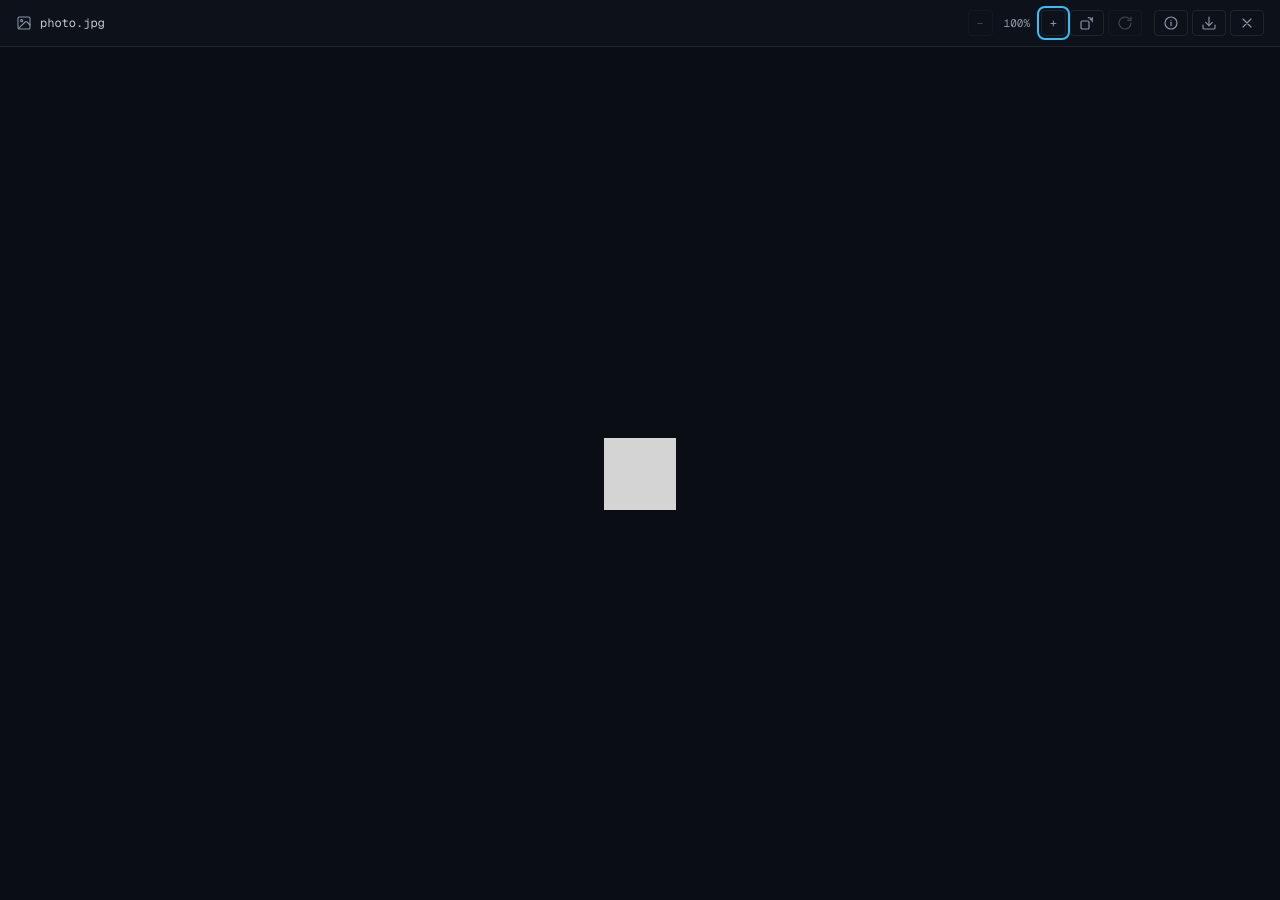
Test: FilePreview file actions › toggles a file-info panel with the metadata
This screenshot has width=1280, height=900.
Expected: the text "Perms" is not shown
Click the button named "File info" at (1171, 23), box [1154,10,1188,36]
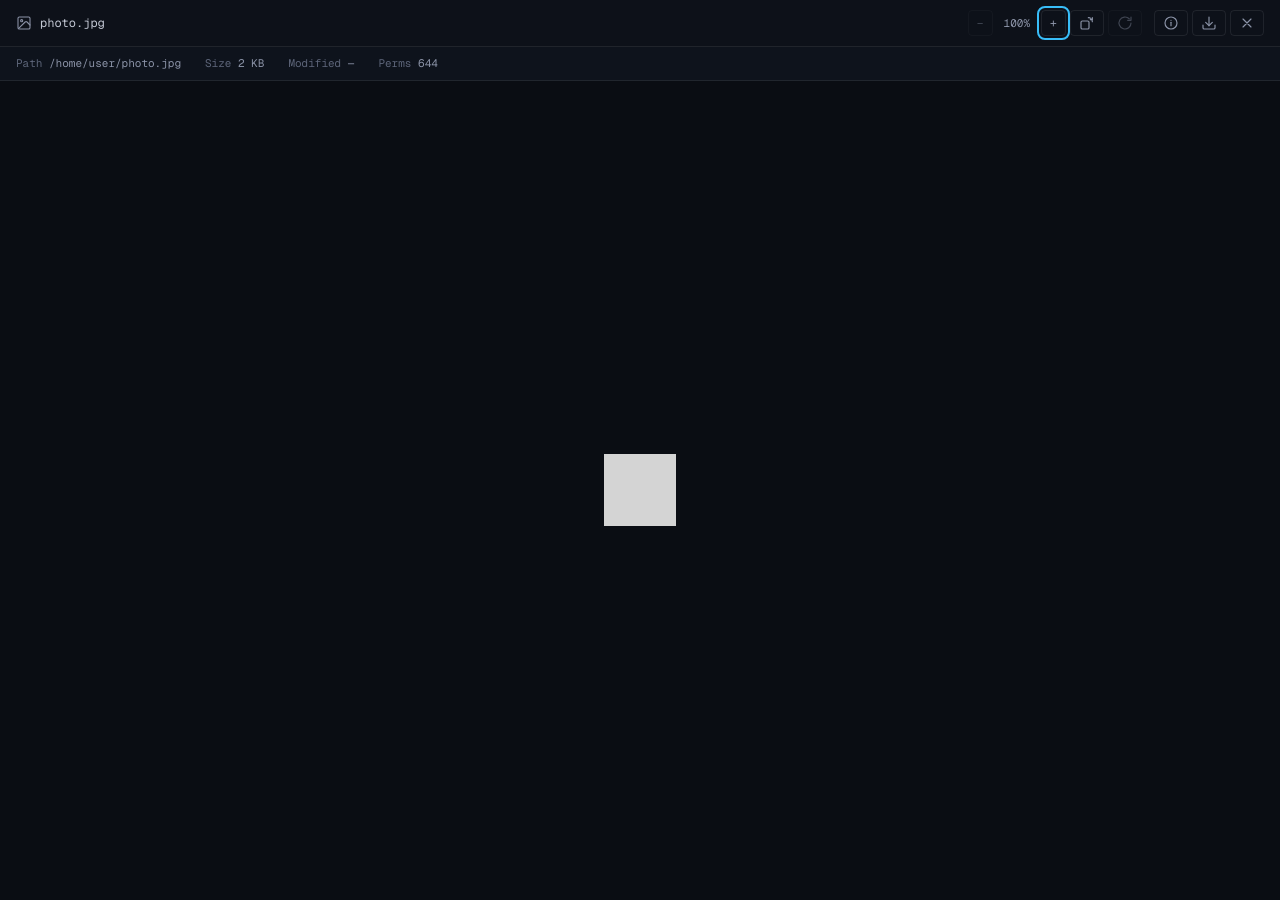
Result: the text "Path" is shown at [16,56,49,70]
Result: the text "2 KB" is shown at [238,56,264,70]
Result: the text "644" is shown at [418,56,438,70]
